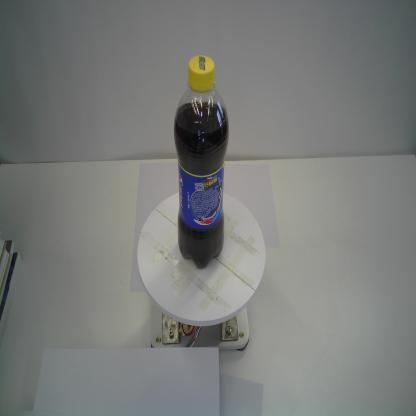Drink: (172, 53, 230, 270)
